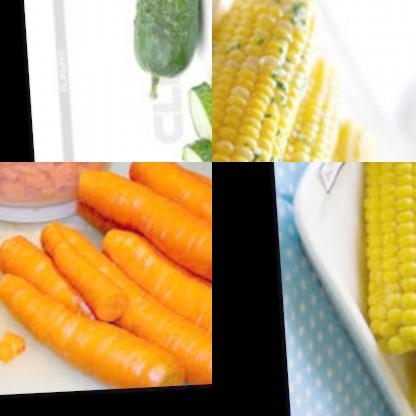carrot: (28, 217, 212, 393), (61, 165, 212, 327), (0, 267, 181, 393), (92, 225, 212, 391), (37, 229, 126, 329), (120, 162, 212, 251), (0, 230, 82, 317), (0, 162, 119, 207)
corn: (212, 0, 336, 162), (222, 58, 367, 162), (353, 162, 416, 377)
cucumber: (112, 0, 209, 100), (173, 62, 212, 156), (172, 138, 212, 162)
